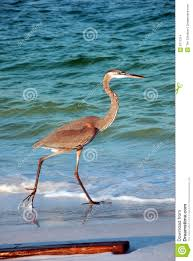Walking: (10, 66, 151, 232)
